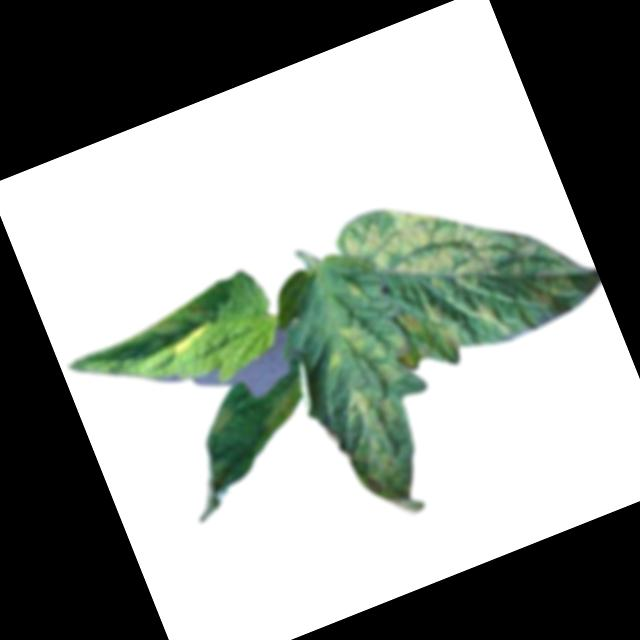Leaf_Mold: (328, 141, 606, 384), (323, 374, 438, 530), (316, 318, 378, 375), (168, 320, 216, 358), (199, 405, 240, 444)
